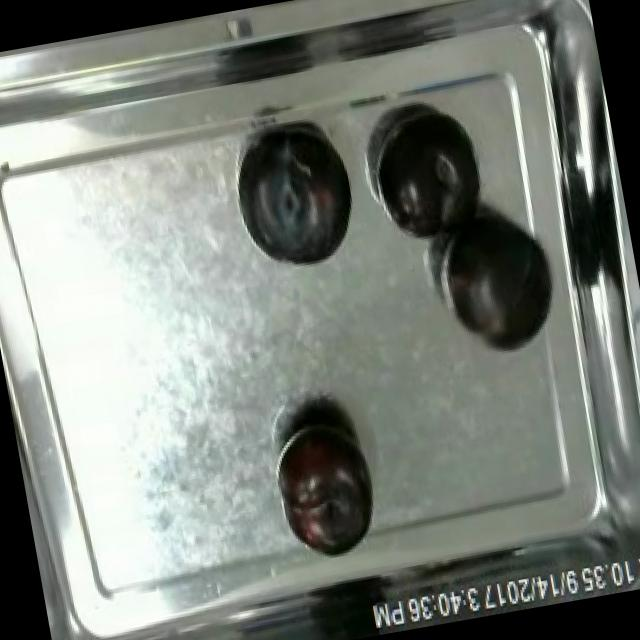Fruit: (228, 115, 366, 282), (429, 206, 565, 360), (362, 102, 494, 258), (264, 406, 386, 564)
